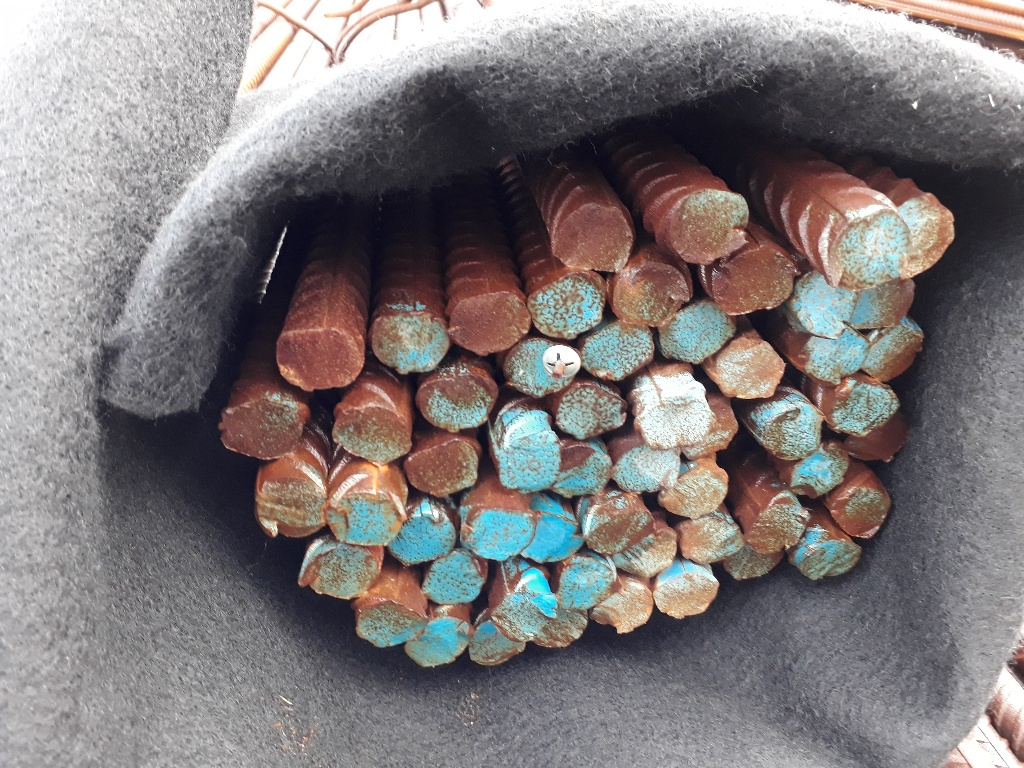dipstick: (219, 398, 306, 460), (711, 246, 790, 313), (554, 207, 632, 271), (838, 212, 906, 285), (451, 292, 529, 355), (275, 330, 361, 387), (673, 190, 743, 259), (375, 314, 449, 374), (530, 276, 599, 337), (615, 264, 686, 321), (336, 410, 412, 463), (909, 191, 955, 275), (418, 380, 495, 430), (259, 480, 327, 536), (410, 442, 479, 496), (663, 310, 735, 361), (305, 547, 377, 598), (331, 493, 401, 545), (642, 390, 708, 445), (719, 340, 781, 397), (587, 326, 653, 379), (588, 500, 654, 553), (796, 276, 854, 335), (494, 584, 556, 638), (467, 508, 533, 558), (501, 434, 559, 490), (559, 389, 624, 437), (508, 344, 570, 394), (426, 553, 485, 605), (868, 328, 922, 382), (856, 282, 918, 329), (832, 488, 889, 539), (800, 335, 866, 379), (658, 573, 718, 621), (358, 601, 425, 643), (411, 620, 469, 668), (403, 512, 456, 564), (615, 448, 678, 491), (834, 388, 900, 429), (562, 446, 613, 498), (749, 502, 805, 549), (770, 406, 821, 457), (561, 563, 618, 608), (532, 513, 582, 563), (597, 589, 653, 633), (676, 471, 729, 517), (793, 451, 844, 497), (621, 535, 677, 576), (682, 522, 742, 560), (800, 542, 861, 579), (472, 627, 525, 668), (705, 397, 737, 455), (539, 611, 588, 646), (847, 432, 904, 462), (725, 552, 783, 579)
